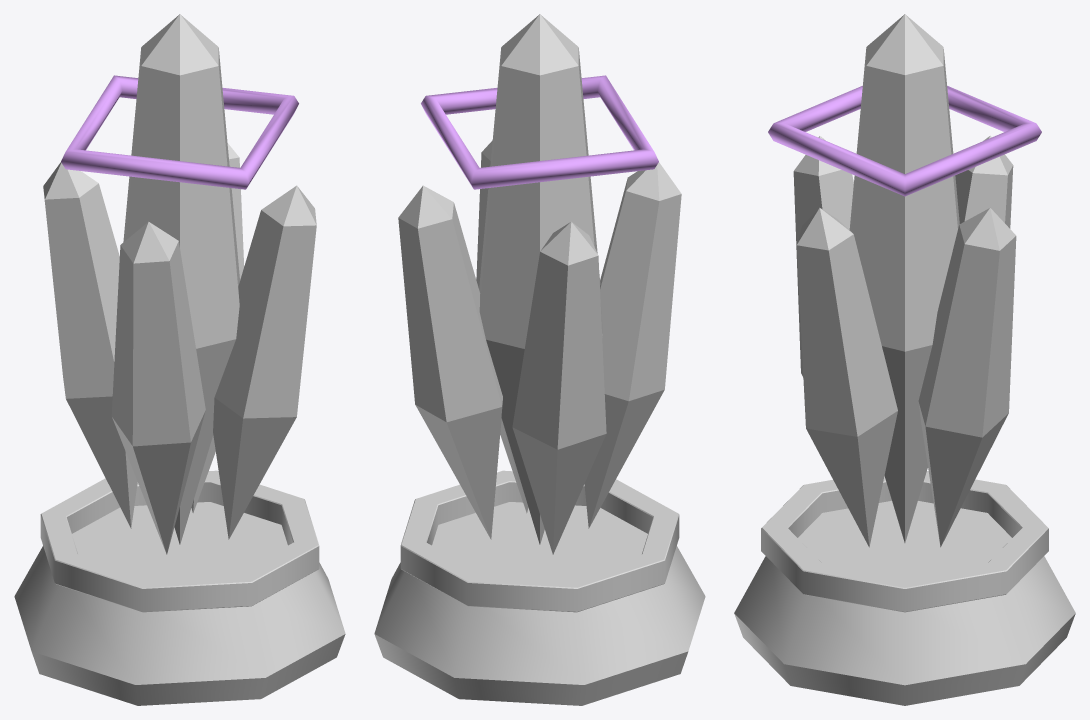
Rendered from VoidPylon.glb.
3 views of the same model, side by side, from view 1: azimuth 30°, elevation 25°; view 2: azimuth 150°, elevation 25°; view 3: azimuth 270°, elevation 25° (orthographic).
Parts seen in each view (by area): view 1: Body, Glow; view 2: Body, Glow; view 3: Body, Glow.
Part boxes in pixels (x1,y1,x2,y2): Body: [14, 14, 345, 705]; Glow: [61, 75, 298, 189]; Body: [374, 14, 705, 705]; Glow: [421, 75, 658, 189]; Body: [734, 14, 1075, 705]; Glow: [768, 86, 1041, 196].
Bounding box in the file's own units: 7.6 × 15.3 × 7.6.
